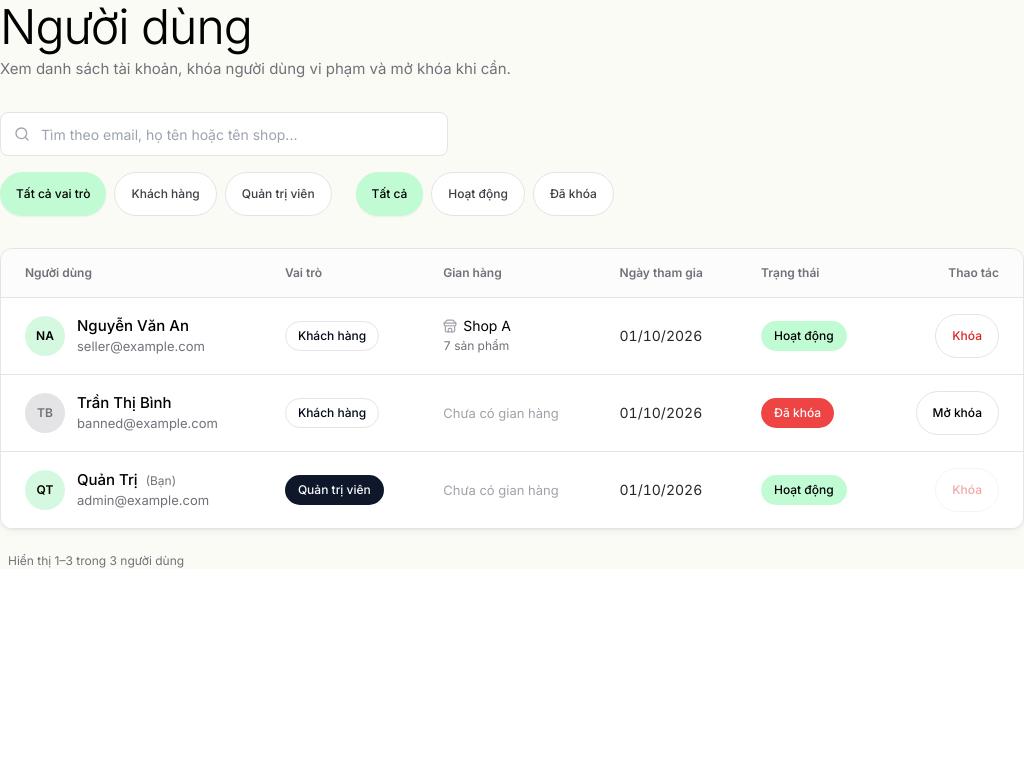
Test case: AdminUserPage › khóa tài khoản: mở dialog, xác nhận, báo thành công và đóng dialog
Click the button with aria-label "Khóa tài khoản Nguyễn Văn An" at coordinates (967, 336), box [935,314,999,358]
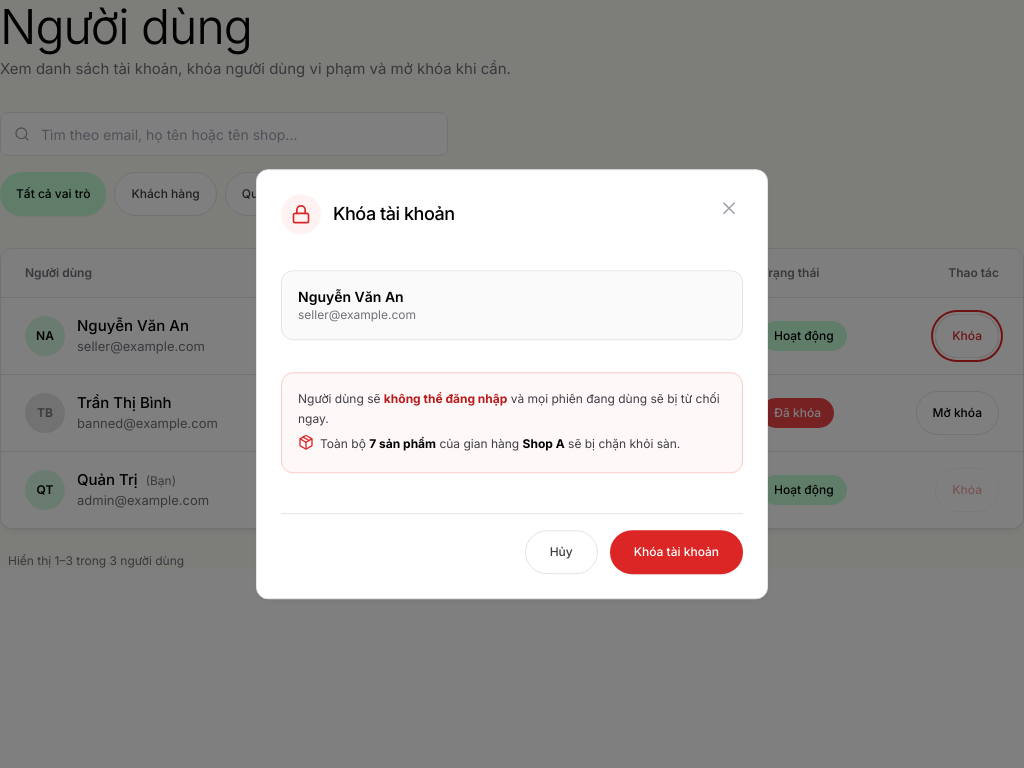
Expected: the element with test id "ban-warning" shows "7 sản phẩm", [281,372,743,473]
Click the button "Khóa tài khoản" at coordinates (676, 552), box [610,530,743,574]
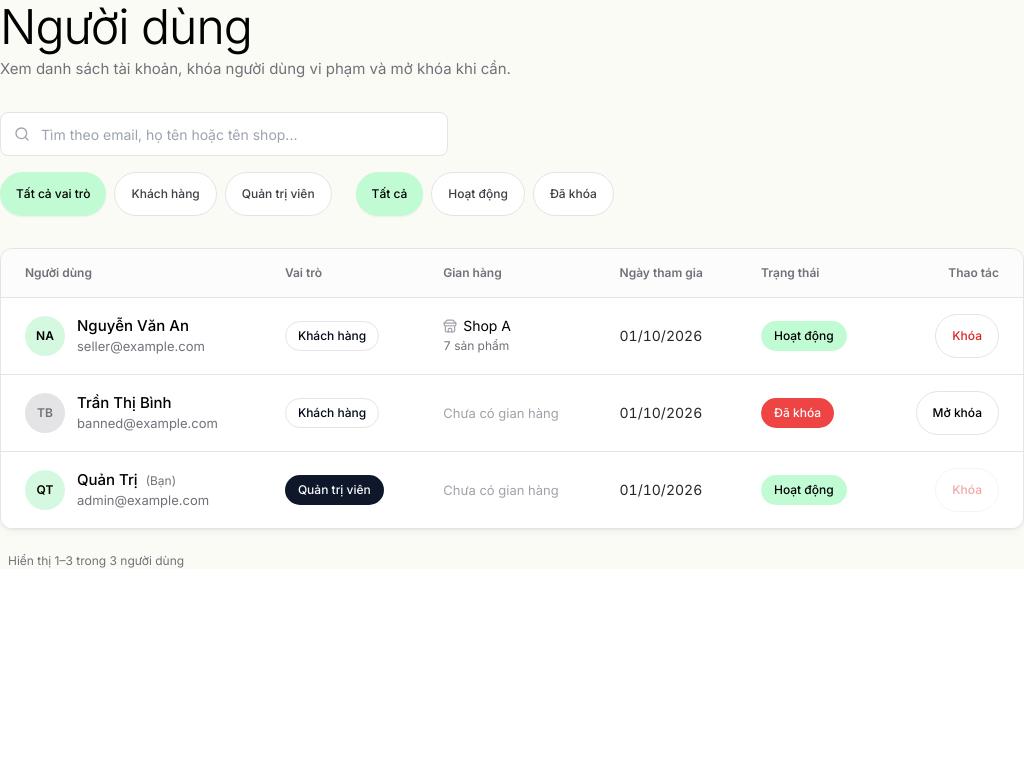
Expected: the dialog with test id "user-moderation-dialog" is gone
